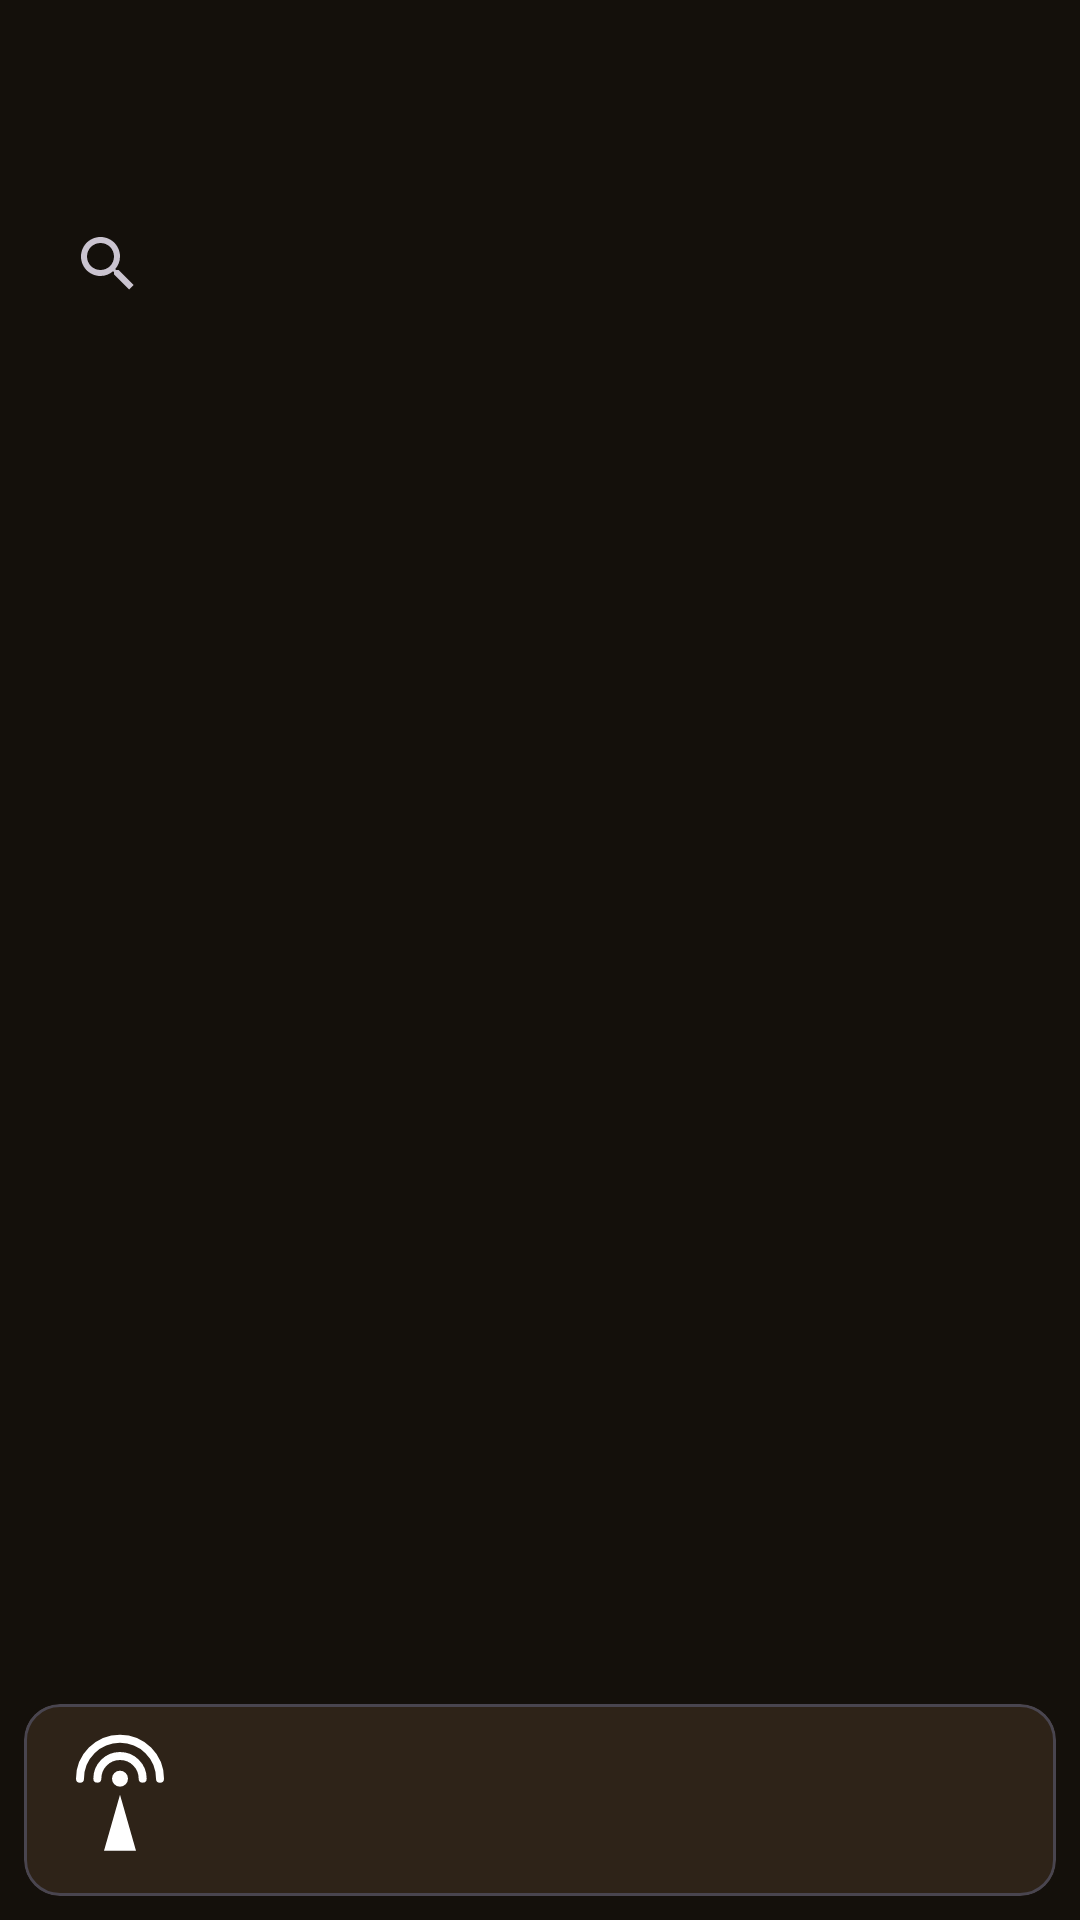

Named icons in this screenshot (1080px×1920px) and their bounding boxes, (x1,y1,x2,y2):
radio: (76,1734,164,1851)
